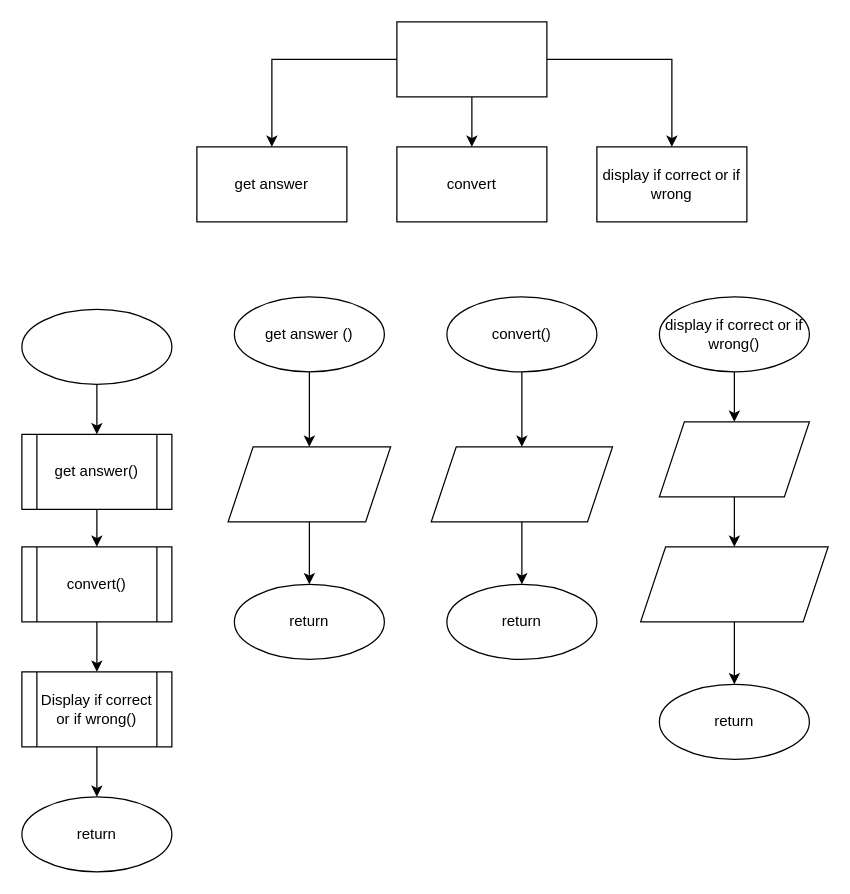
The diagram is 850 pixels wide and 894 high, and some of its shapes have lost their labels. Here are the shapes that lost their labels. From the top down, the centre of each, then its label:
At (471,59): "Math quiz".
At (96,346): "main()".
At (733,459): "display correct".
At (309,484): "ask them to solve problem".
At (521,484): "add numbers to get total".
At (733,584): "display right answer".
